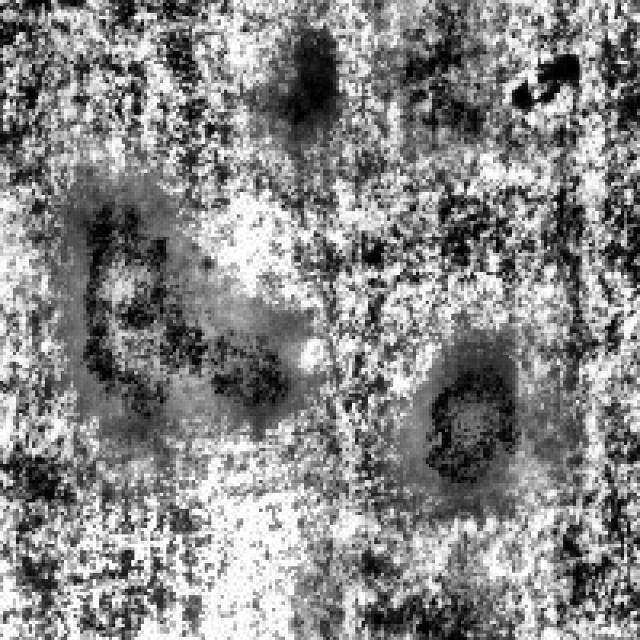Scratches: (60, 166, 298, 442), (400, 342, 528, 496)
